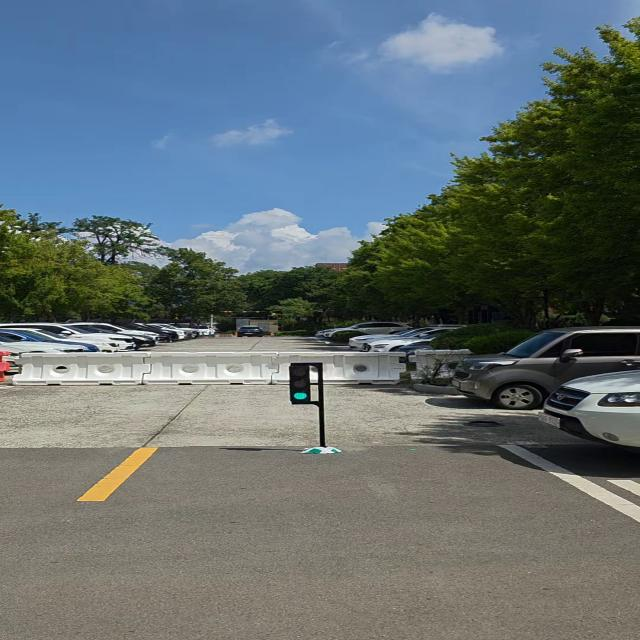green: (288, 361, 316, 404)
